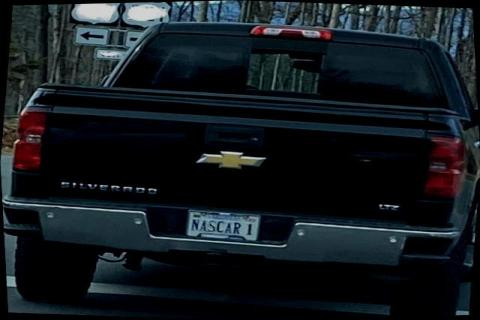LicensePlate: (181, 207, 260, 241)
